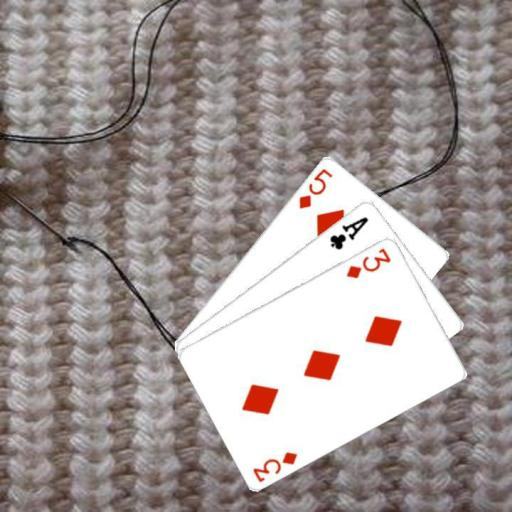3D: (250, 448, 300, 484), (343, 244, 393, 279)
5D: (295, 164, 334, 210)
AC: (327, 213, 371, 251)
